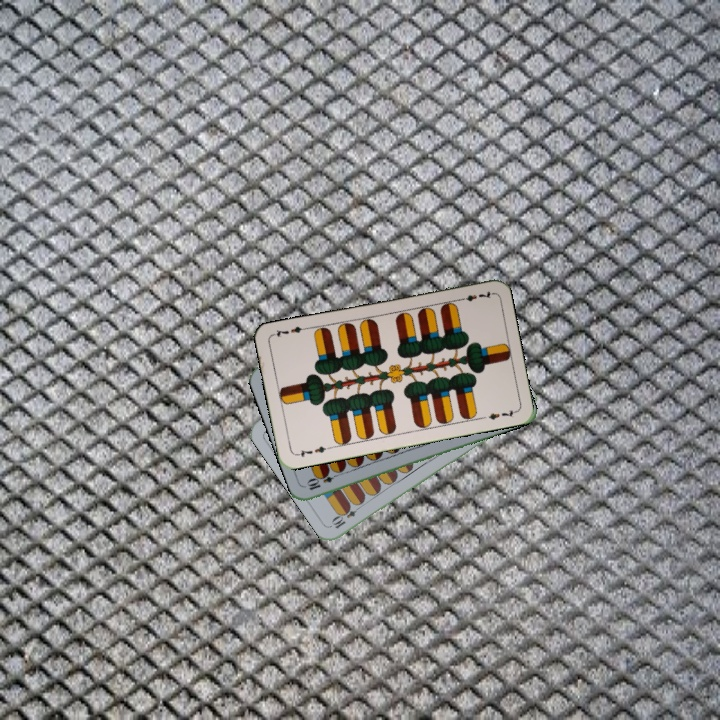E10: (328, 500, 364, 531), (303, 468, 343, 493)
E7: (292, 442, 333, 460), (454, 287, 494, 304)
